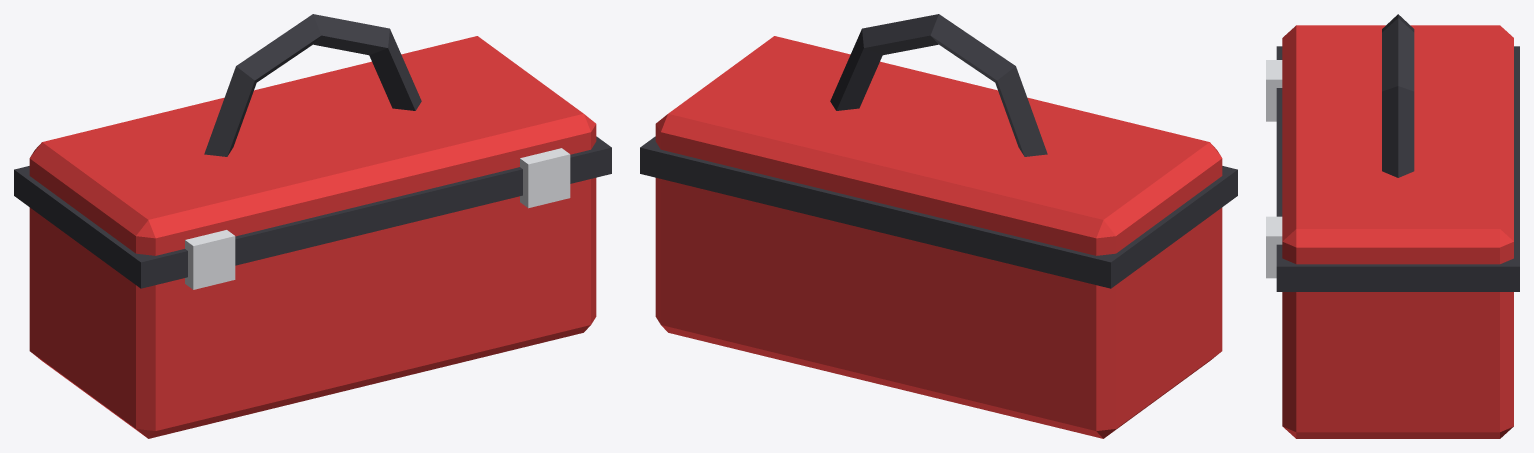
Rendered from Toolbox.fbx.
3 views of the same model, side by side, from view 1: azimuth 30°, elevation 25°; view 2: azimuth 150°, elevation 25°; view 3: azimuth 270°, elevation 25° (orthographic). The views are drawn at different scales.
Visible parts, largest first — view 1: Toolbox; view 2: Toolbox; view 3: Toolbox.
Part boxes in pixels (x1,y1,x2,y2): Toolbox: [14, 14, 611, 438]; Toolbox: [640, 14, 1237, 438]; Toolbox: [1266, 14, 1519, 438].
Size of the model in its own units: 2.25 by 1.52 by 1.1.
Materials: 1 (1 with a texture image).
